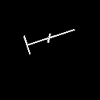double_crochet: (24, 29, 73, 53)
